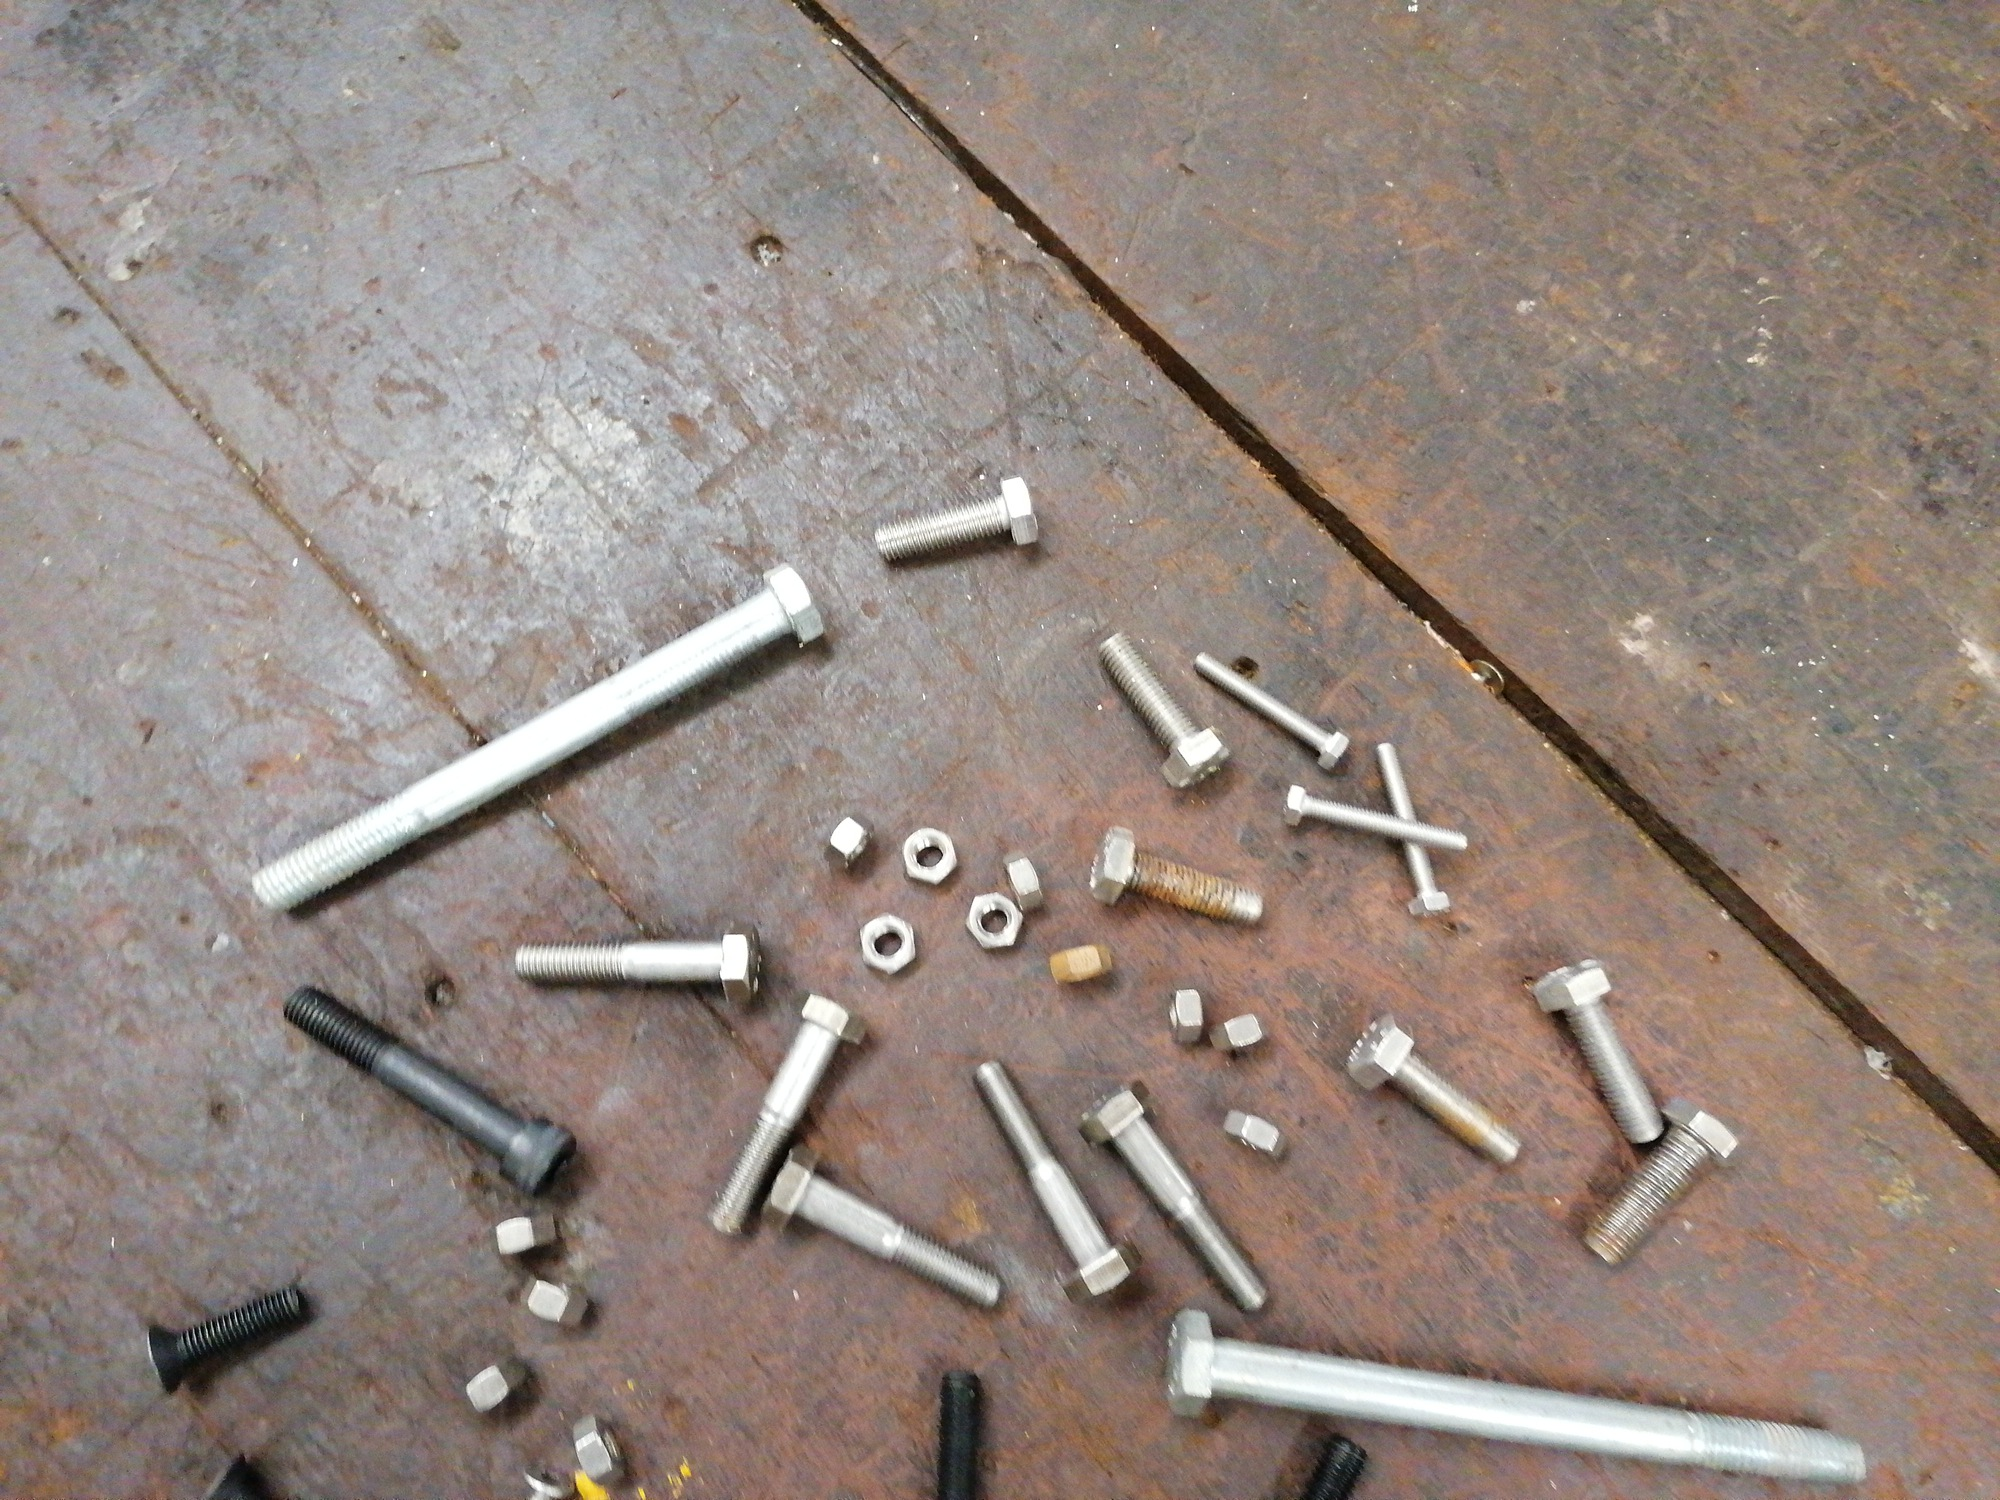bolt: (247, 561, 824, 914), (1162, 1309, 1868, 1487), (280, 983, 576, 1197), (1076, 1079, 1271, 1316), (972, 1057, 1142, 1305), (759, 1141, 1002, 1312), (706, 989, 866, 1235), (1342, 1012, 1523, 1166), (1581, 1097, 1739, 1268), (1531, 958, 1665, 1145), (1096, 629, 1233, 789), (513, 923, 764, 1004), (1194, 651, 1350, 770), (1088, 826, 1265, 930), (143, 1286, 312, 1394), (874, 473, 1039, 566), (1373, 742, 1452, 919), (1280, 782, 1468, 849), (931, 1369, 984, 1498), (1294, 1434, 1369, 1500), (521, 1461, 575, 1500)
nut: (572, 1413, 628, 1486), (463, 1357, 535, 1413), (857, 912, 917, 977), (964, 890, 1024, 952), (520, 1275, 587, 1328), (1219, 1106, 1287, 1160), (901, 826, 957, 887), (491, 1209, 562, 1257), (824, 811, 874, 873), (1047, 942, 1113, 985), (1206, 1012, 1269, 1054), (1002, 849, 1043, 914), (1165, 985, 1205, 1045)
